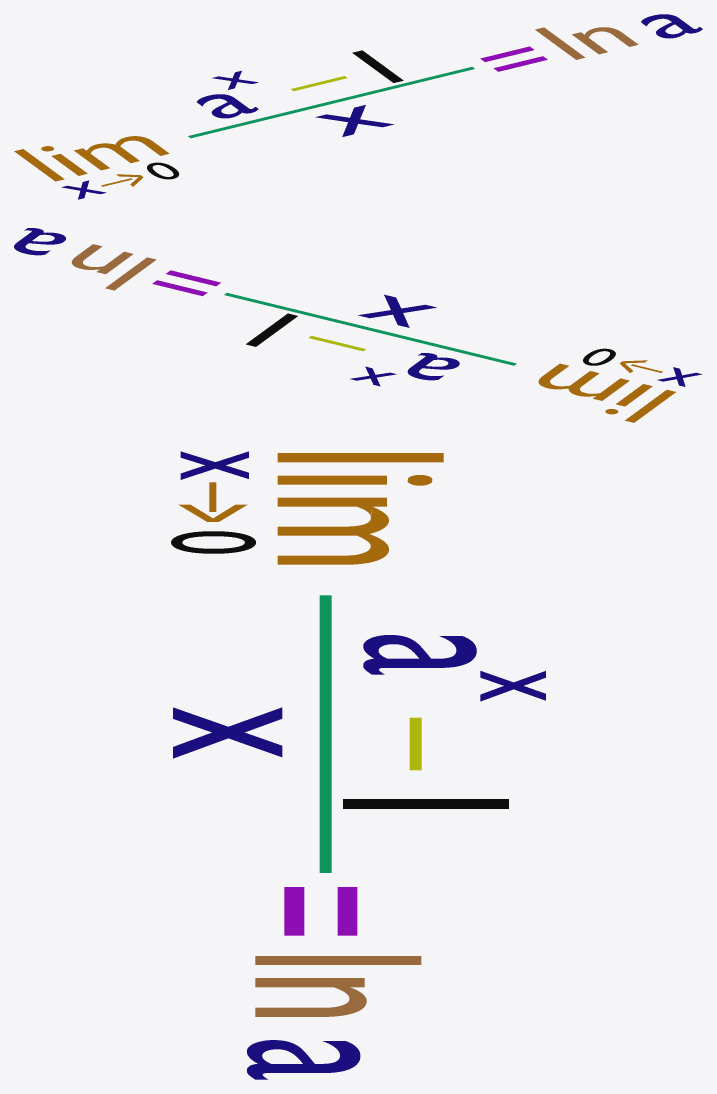
3 renders of one model, top to bottom at view 1: azimuth 30°, elevation 25°; view 2: azimuth 150°, elevation 25°; view 3: azimuth 270°, elevation 25°, orthographic. The views are drawn at different scales.
Parts seen in each view (by area): view 1: LR 4; view 2: LR 4; view 3: LR 4.
Boxes of the visible parts, bbox=[...] form: LR 4: bbox=[14, 14, 702, 199]; LR 4: bbox=[14, 228, 701, 422]; LR 4: bbox=[171, 451, 545, 1079].
Bounding box in the file's own units: 6.11 × 0 × 1.54.
